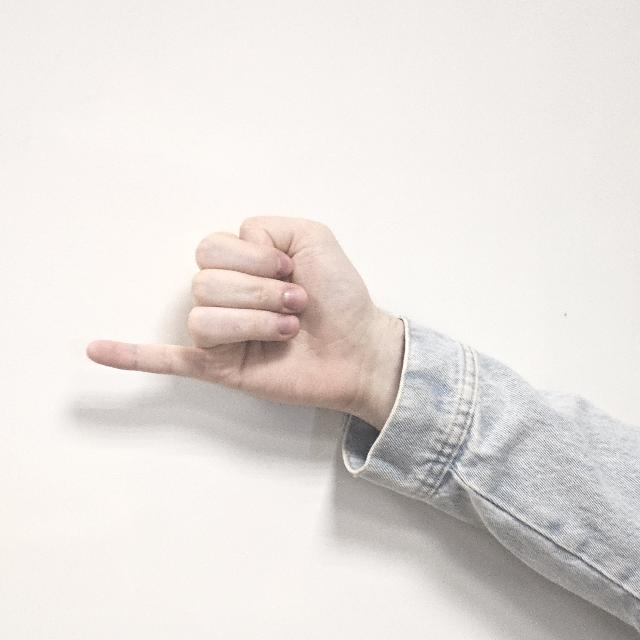Esquerda: (88, 174, 376, 452)
